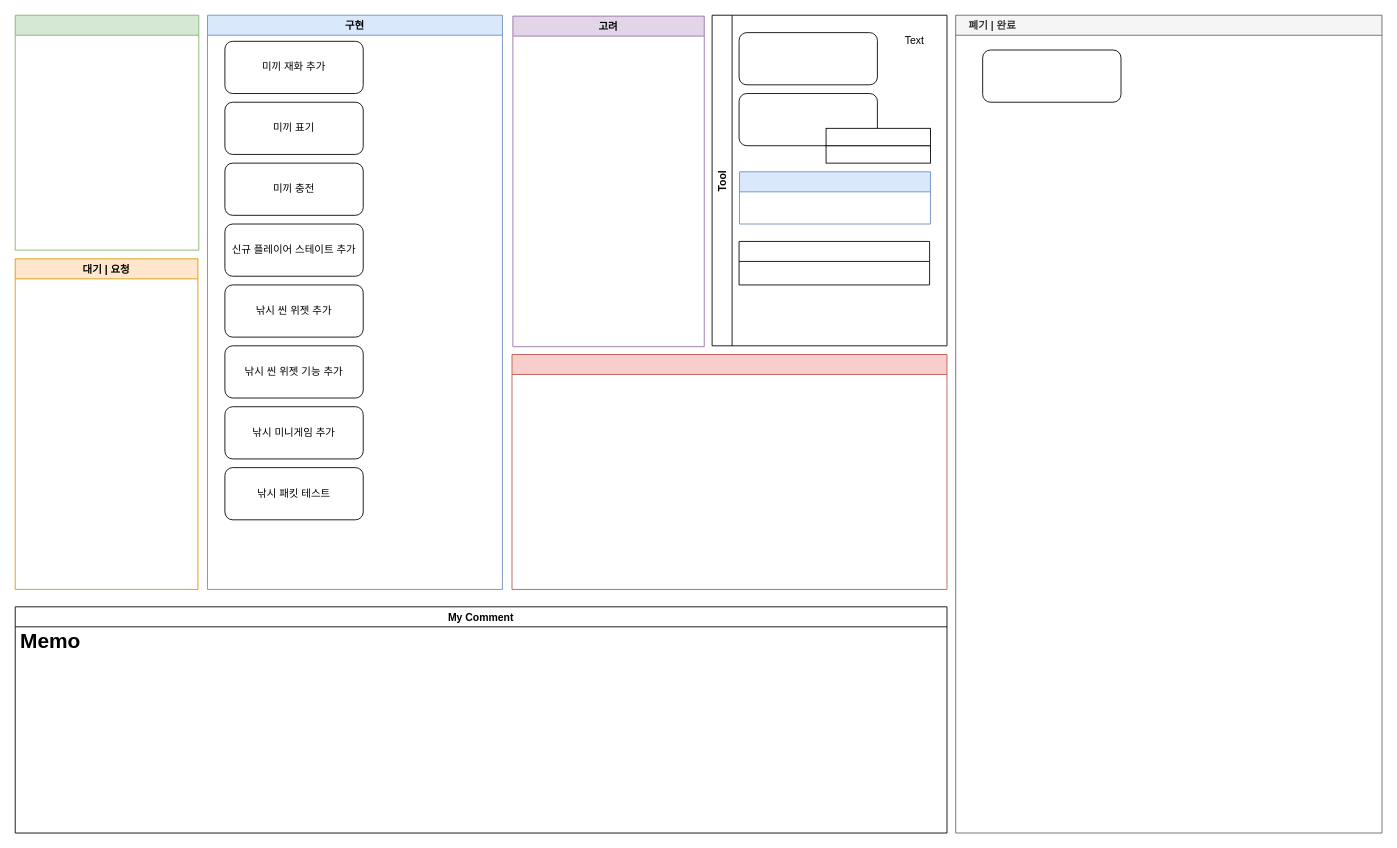
Image size: 1397x848. Some labels were removed from this diagram. Each missing label, with the centre of its shape:
낚시 랜드마크 작성: (x=1051, y=75)
분석 | 논의: (x=106, y=132)
에러 | 수정: (x=729, y=471)
